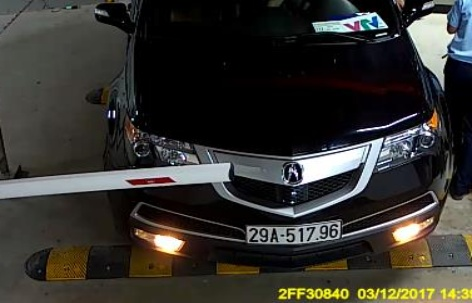plate: (241, 216, 348, 249)
